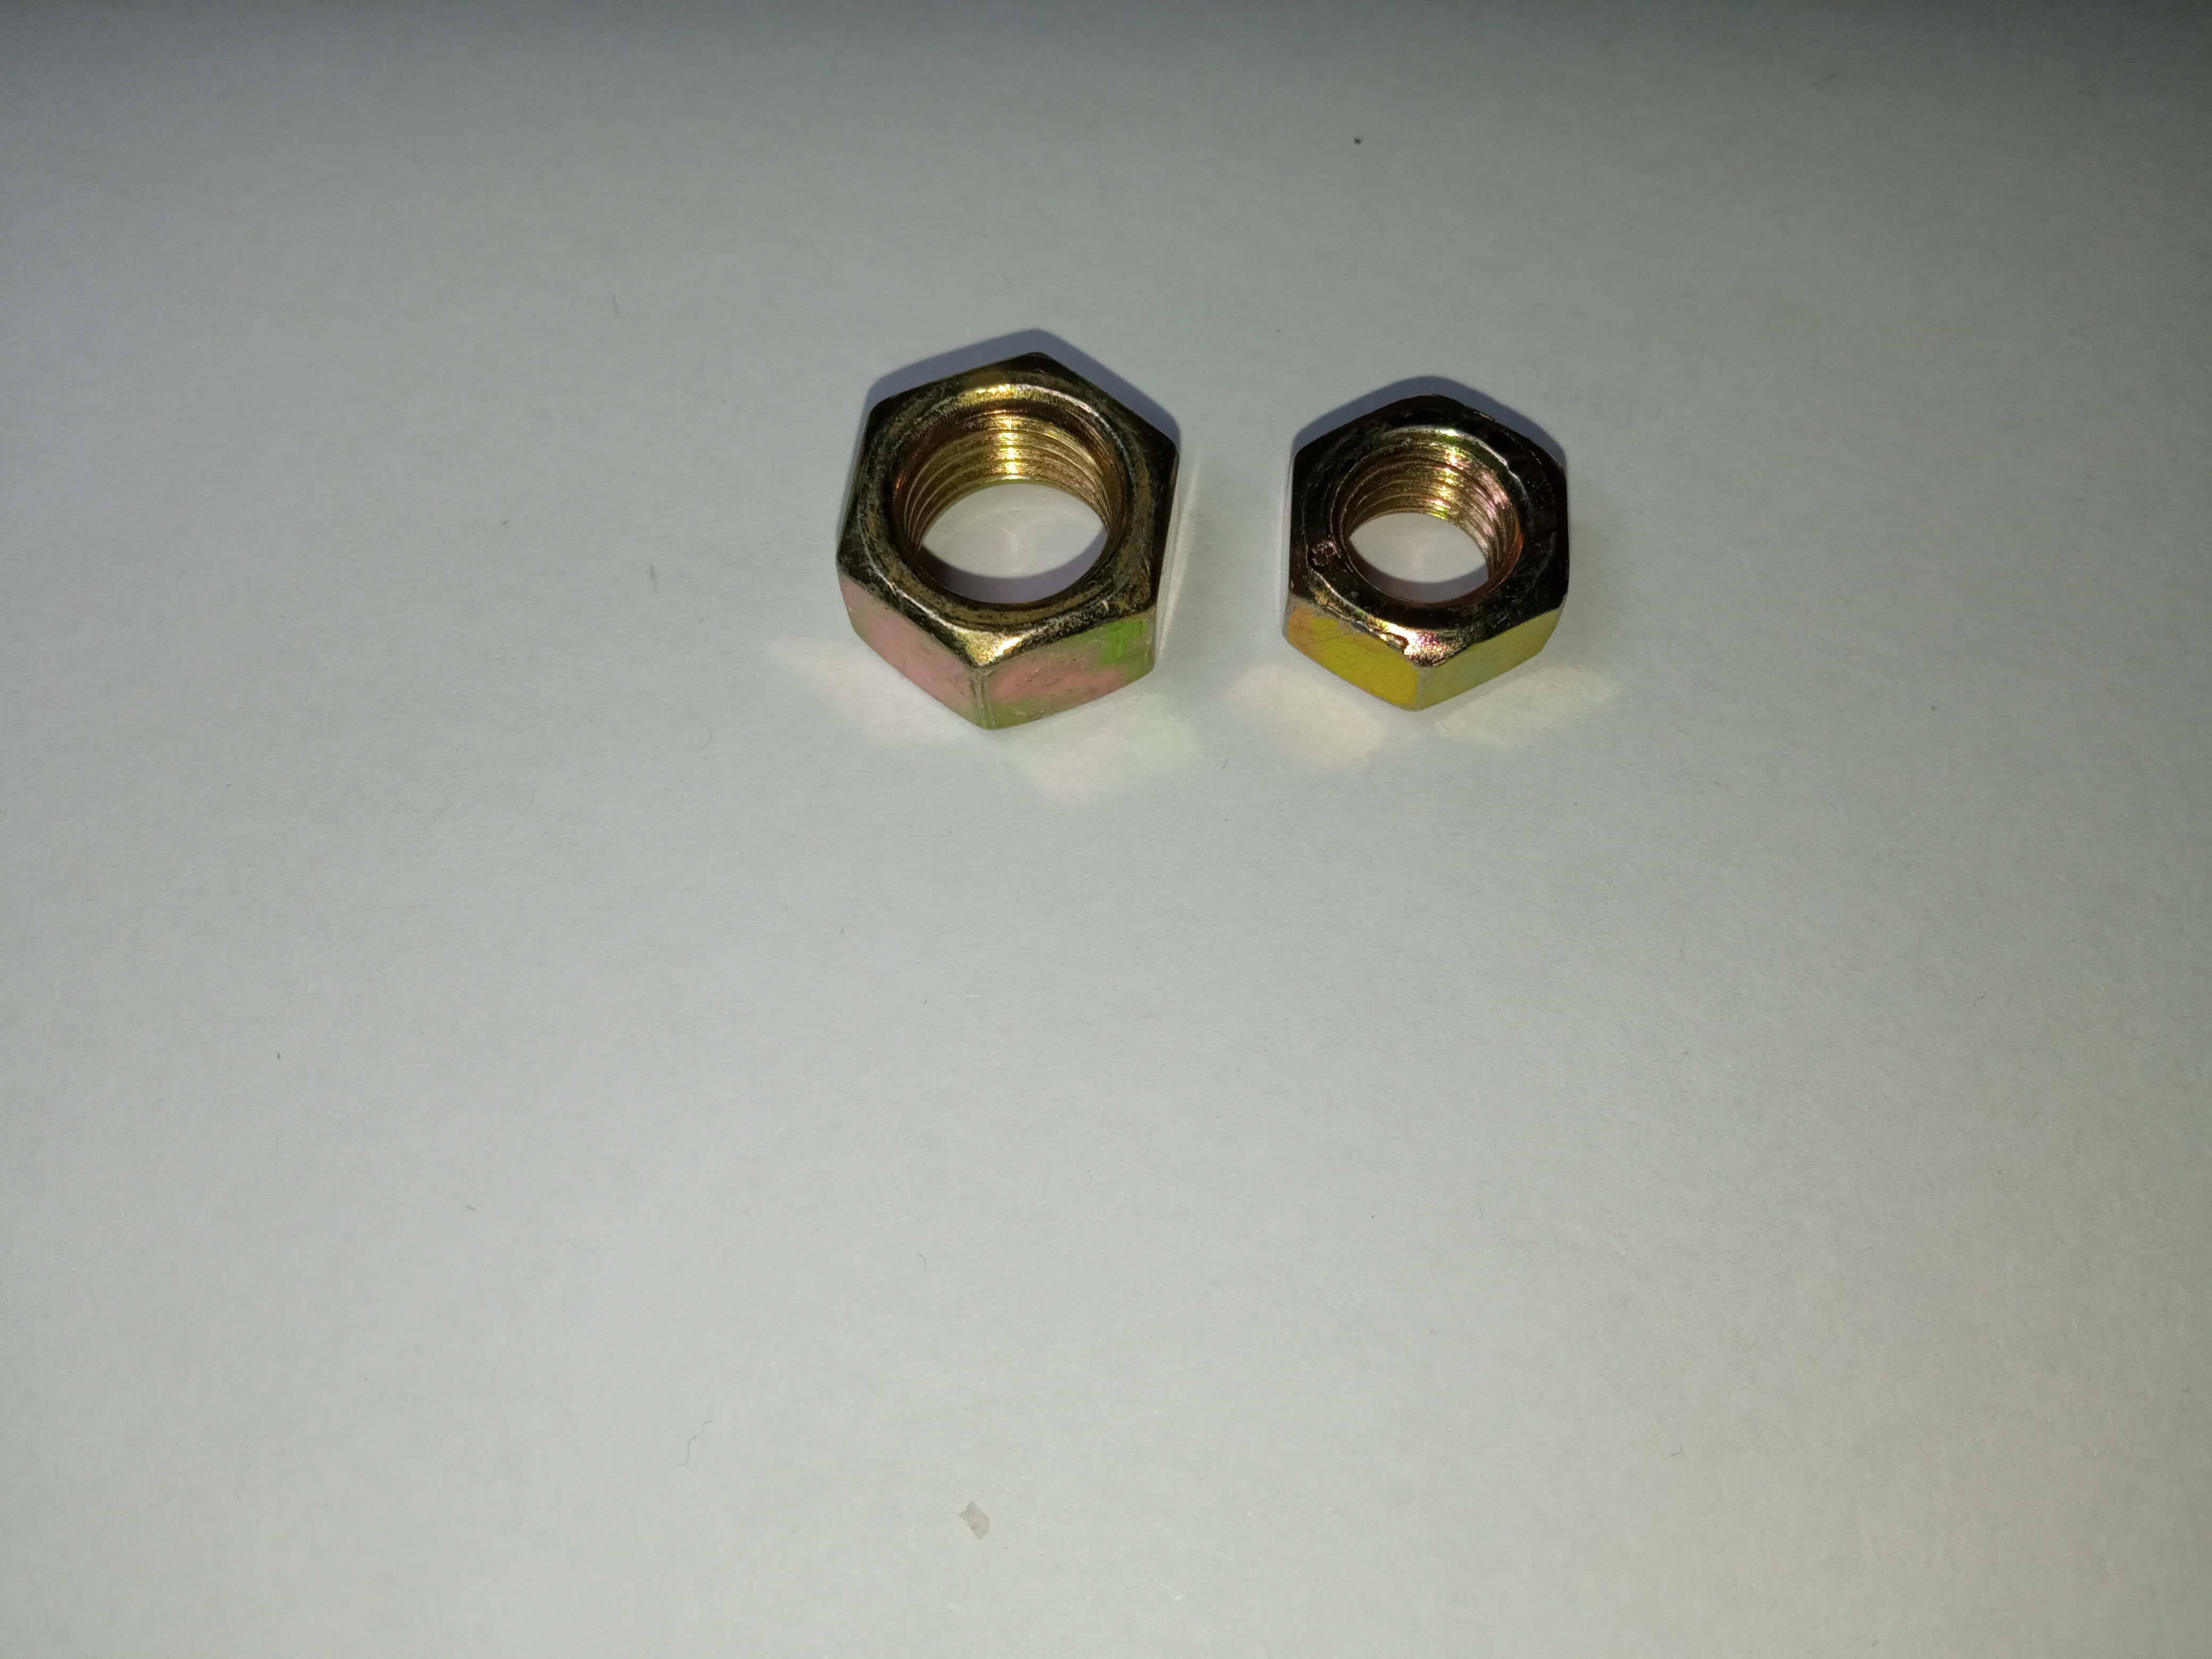m10: (833, 352, 1195, 695)
m8: (833, 352, 1179, 709), (1289, 390, 1580, 702)
